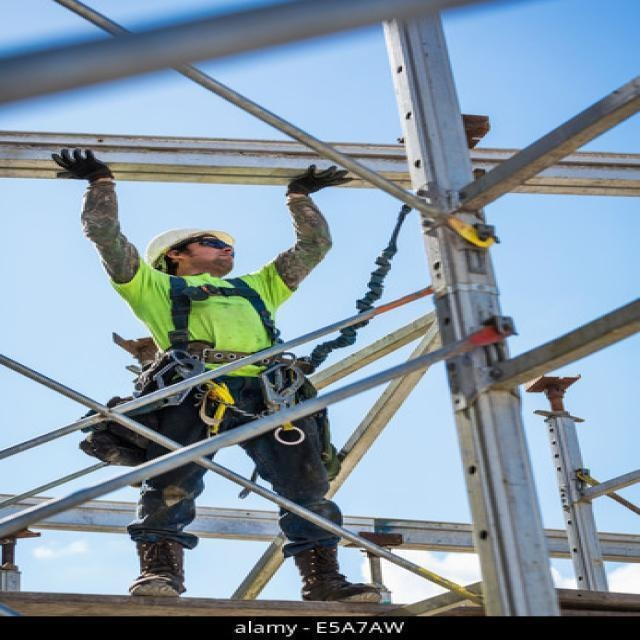Arnes_seguridad: (150, 273, 308, 439)
